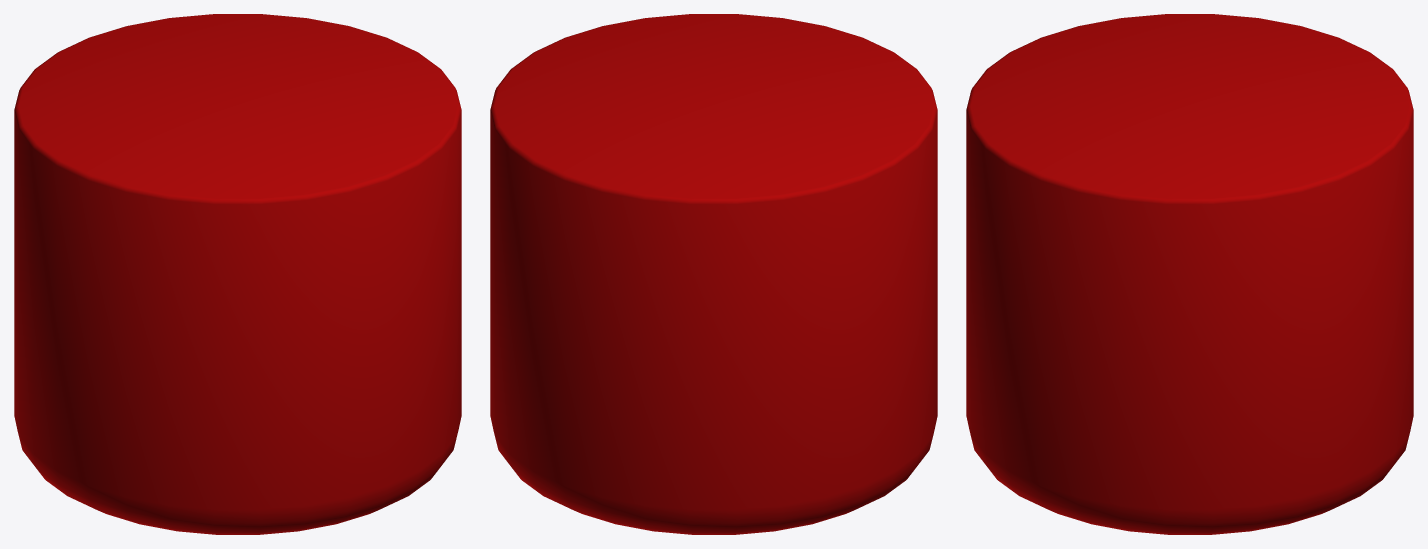
3 renders of one model, left to right at view 1: azimuth 30°, elevation 25°; view 2: azimuth 150°, elevation 25°; view 3: azimuth 270°, elevation 25°, orthographic.
Visible parts, largest first — view 1: SM_液体; view 2: SM_液体; view 3: SM_液体.
Part boxes in pixels (x1,y1,x2,y2): SM_液体: [14, 14, 461, 534]; SM_液体: [490, 14, 937, 534]; SM_液体: [966, 14, 1413, 534].
Bounding box in the file's own units: 0.0552 × 0.0478 × 0.0555.
